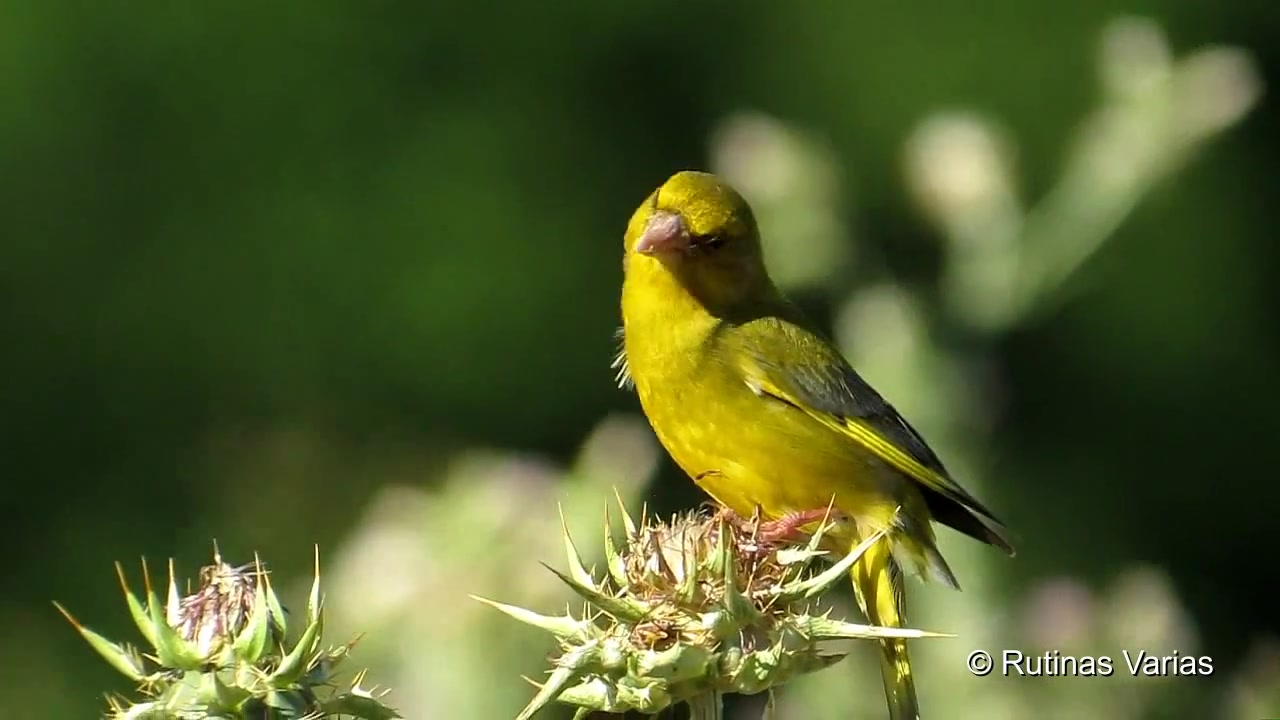bird: (609, 169, 1027, 720)
